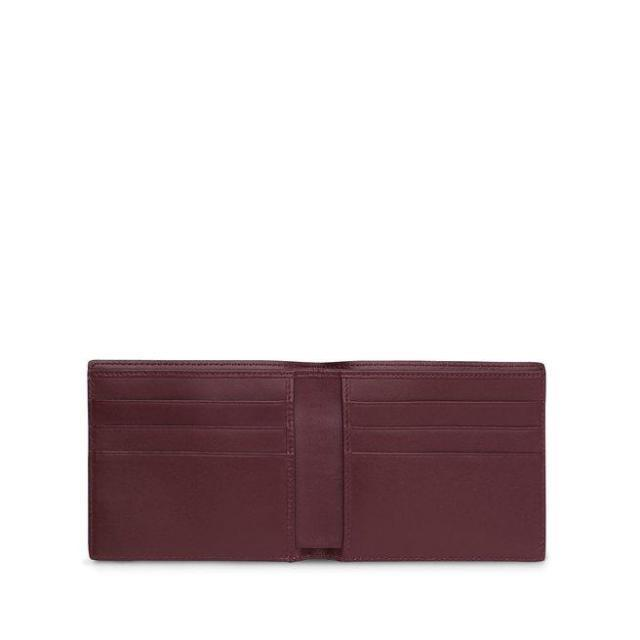wallet: (76, 348, 556, 576)
